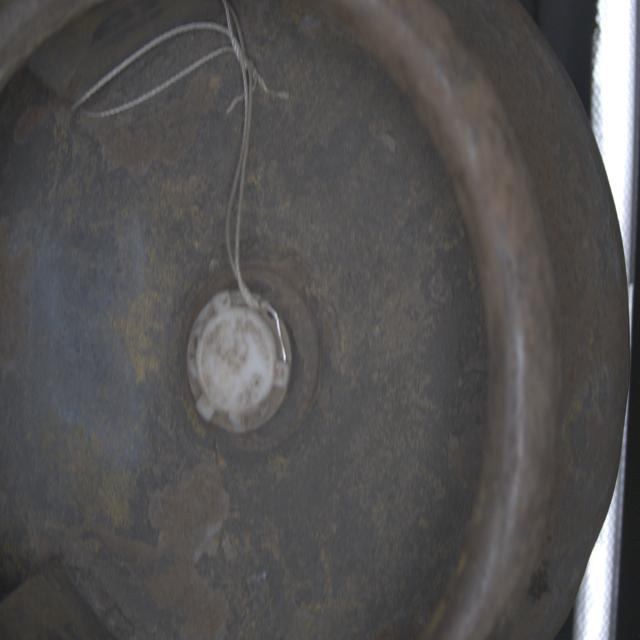Cap: (183, 285, 297, 439)
